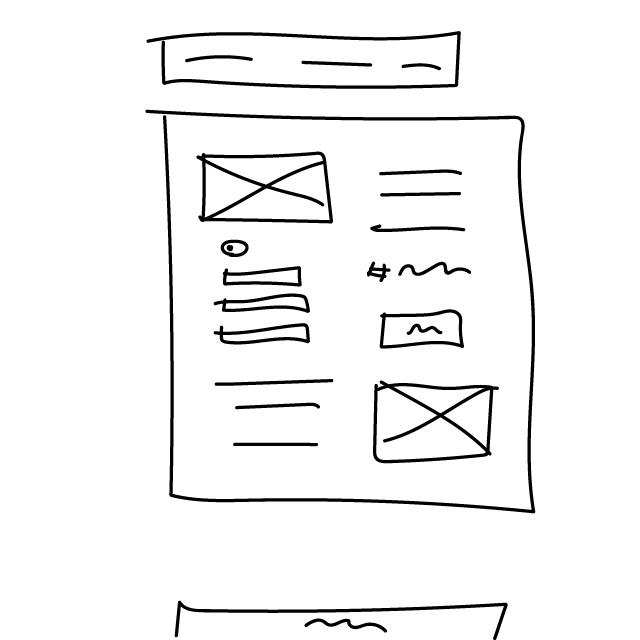button: (378, 307, 471, 351)
checkbox: (221, 238, 255, 262)
container: (140, 100, 560, 523)
footer: (163, 593, 520, 640)
frame: (366, 374, 502, 473), (193, 146, 340, 228)
heading: (364, 253, 473, 285)
input: (213, 323, 316, 349), (220, 263, 306, 292), (213, 294, 317, 316)
nav: (144, 30, 464, 92)
text: (212, 365, 341, 457), (369, 158, 474, 242)
